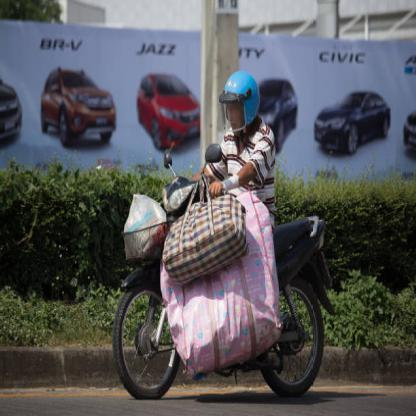Motorcycle: (113, 182, 331, 394)
